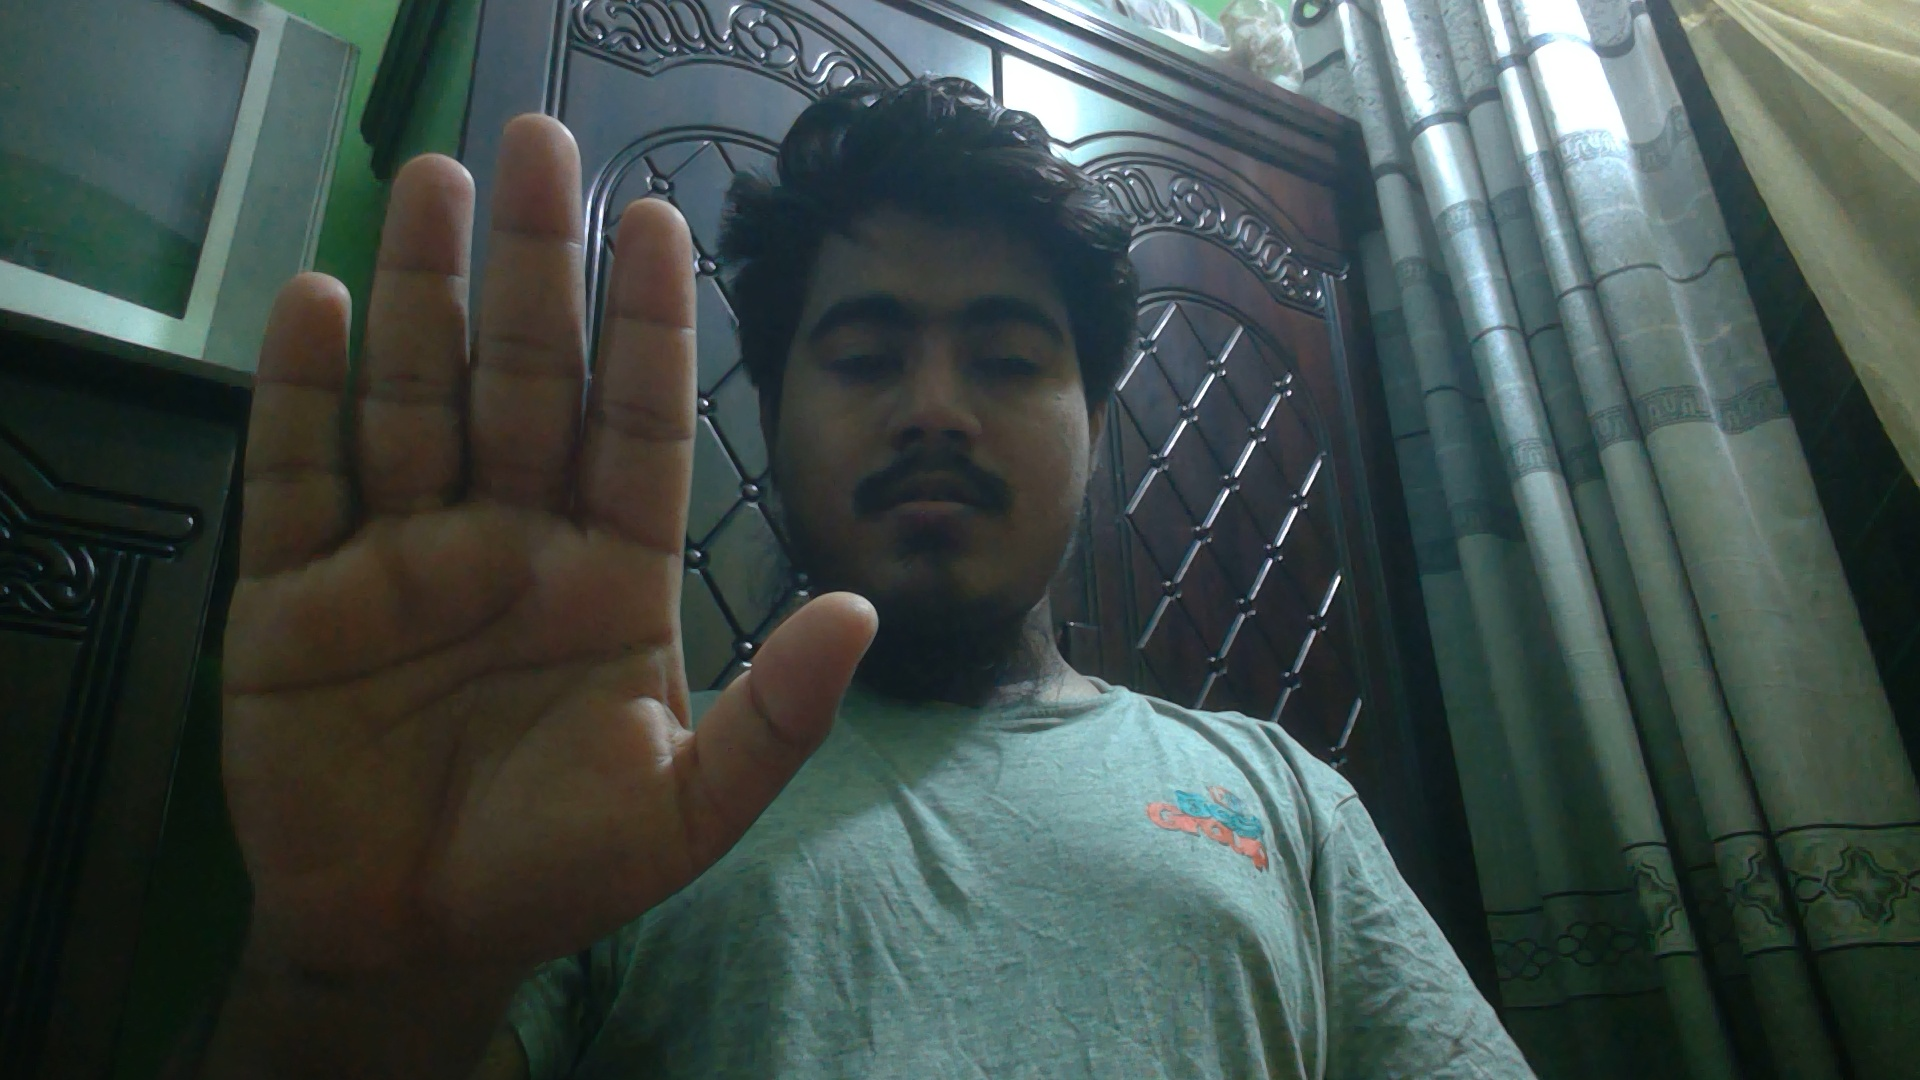Hello: (214, 92, 884, 1000)
